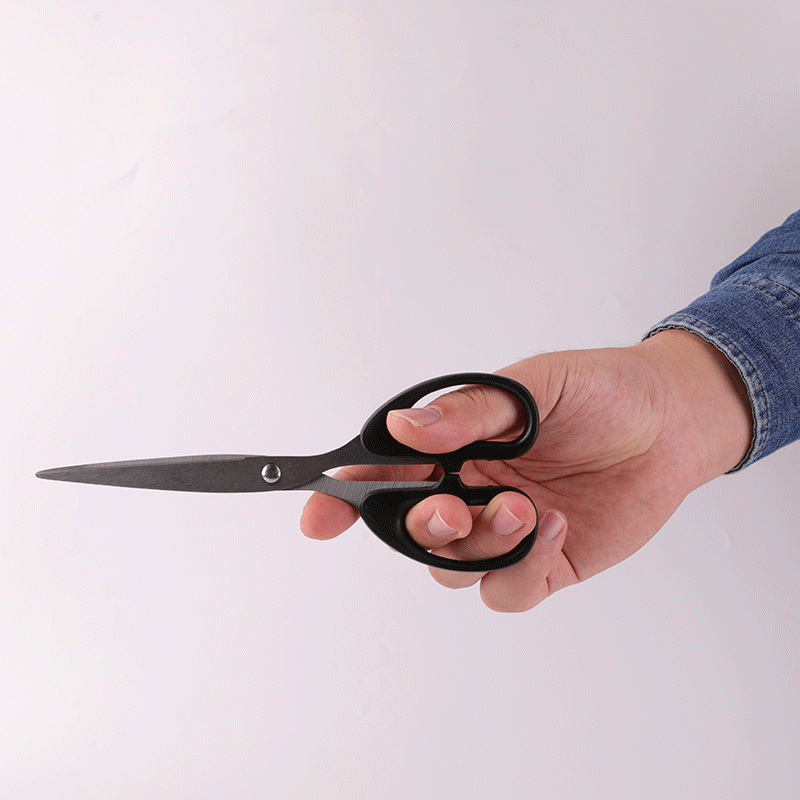scissors: (33, 368, 544, 578)
